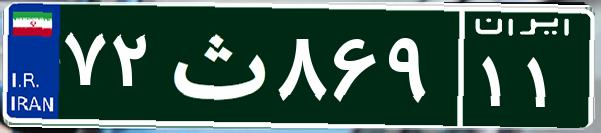1: (475, 38, 525, 113), (525, 38, 570, 115)
2: (110, 28, 158, 105)
6: (330, 28, 385, 110)
7: (57, 26, 110, 107)
8: (273, 28, 330, 110)
9: (385, 28, 445, 110)
ث: (158, 15, 273, 115)
